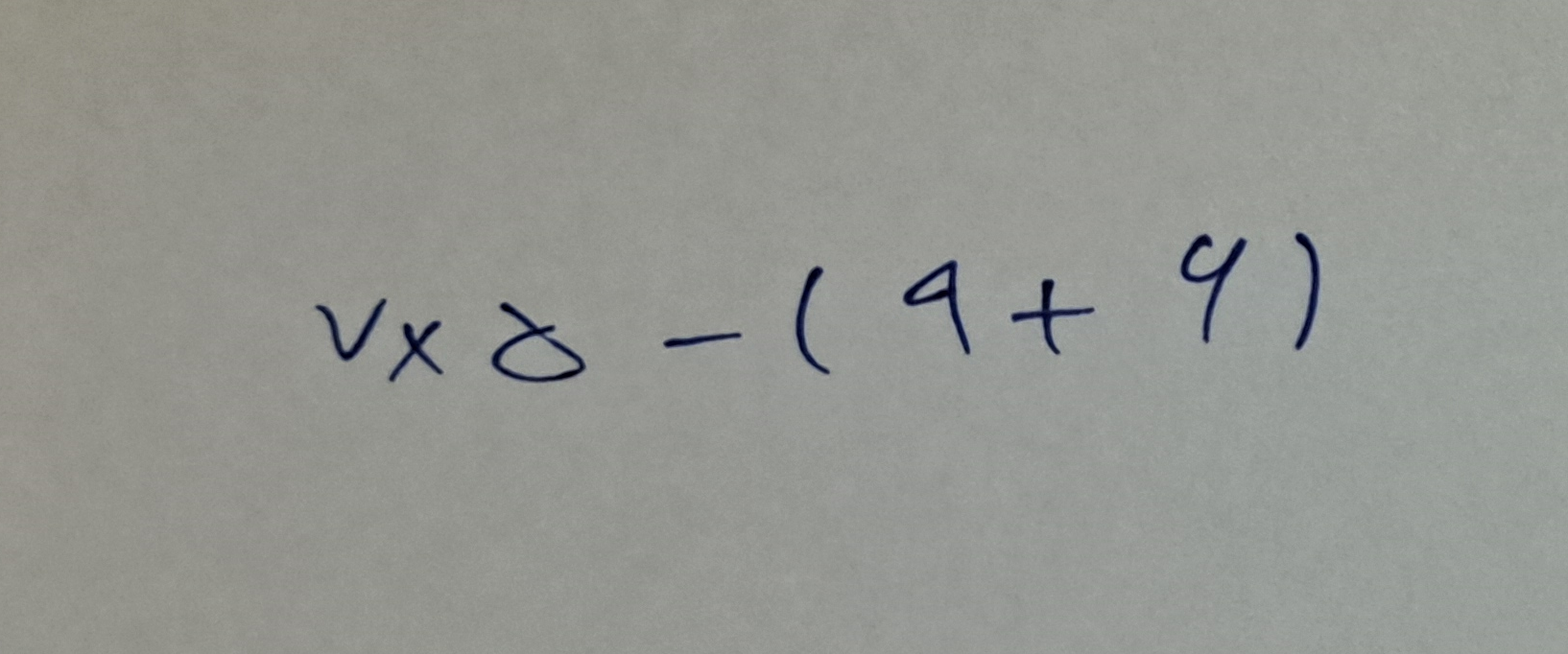character: (491, 301, 586, 382), (1179, 236, 1246, 342), (901, 259, 972, 355), (1012, 280, 1094, 353), (315, 298, 389, 360), (794, 268, 834, 375), (389, 321, 444, 380), (1293, 233, 1320, 350), (663, 326, 742, 352)
